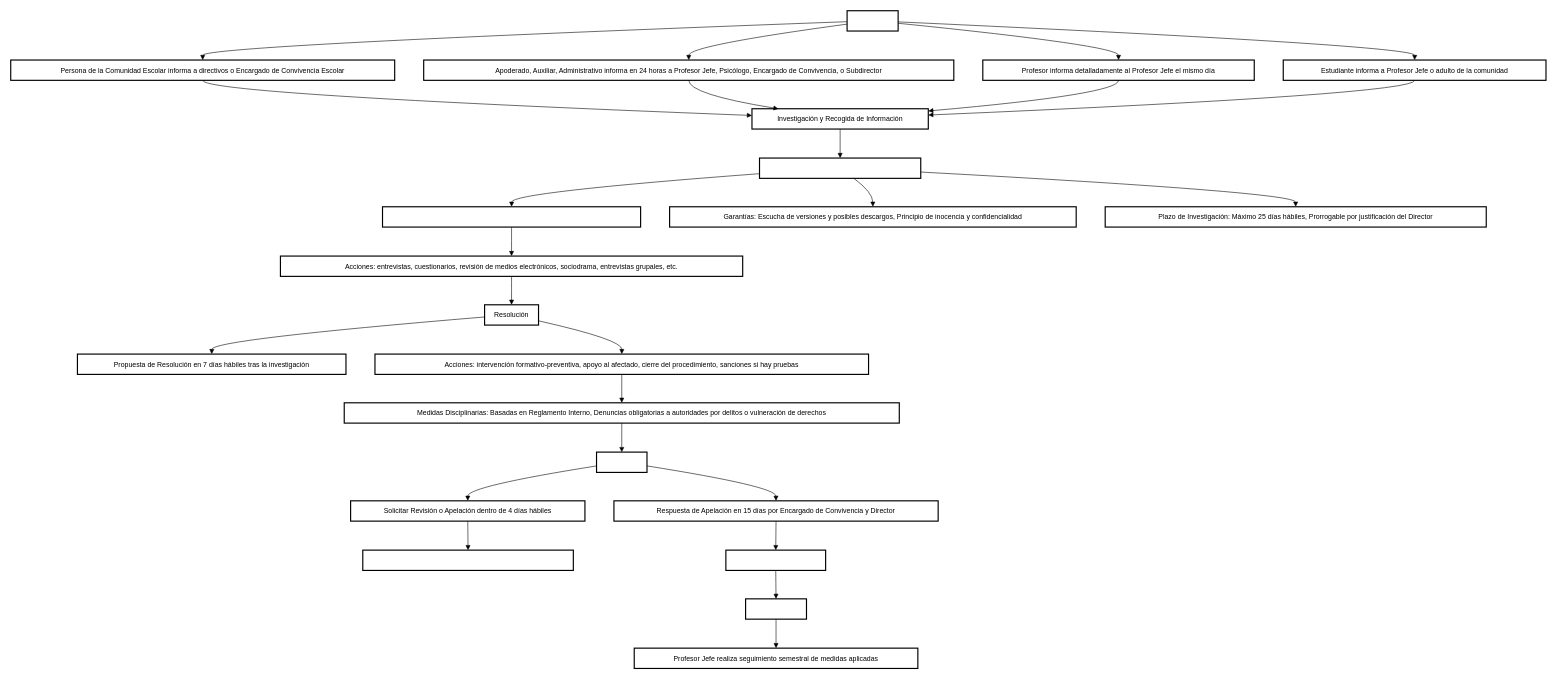
The diagram is 1556 pixels wide and 679 high, and some of its shapes have lost their labels. Here are the shapes that lost their labels. From the top down, the centre of each, then its label:
[872,20]: Detección
[840,168]: Activación del Protocolo en 48 horas
[511,216]: Liderado por Psicóloga de ciclo o Encargado de Convivencia
[621,462]: Apelación
[468,560]: Por escrito, firmado por estudiante y apoderado
[775,560]: Resolución inapelable
[776,608]: Seguimiento
